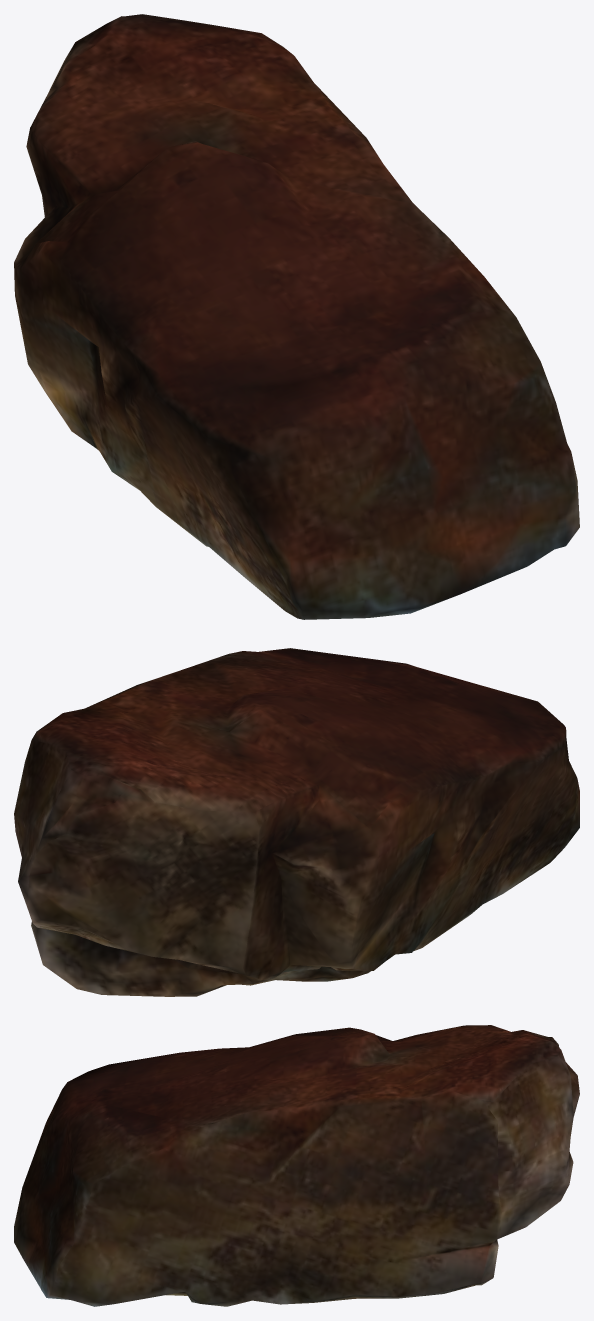
The model's file is rock_07.glb.
The picture shows the model from 3 angles, top to bottom: view 1: azimuth 30°, elevation 25°; view 2: azimuth 150°, elevation 25°; view 3: azimuth 270°, elevation 25°; orthographic projection. The views are drawn at different scales.
Parts seen in each view (by area): view 1: rock_07; view 2: rock_07; view 3: rock_07.
Part boxes in pixels (box(x1,y1,x2,y2)): rock_07: box(14, 14, 579, 619); rock_07: box(14, 648, 579, 996); rock_07: box(14, 1025, 579, 1306).
Size of the model in its own units: 0.1672 by 0.1434 by 0.3194.
1 material, 1 textured.
